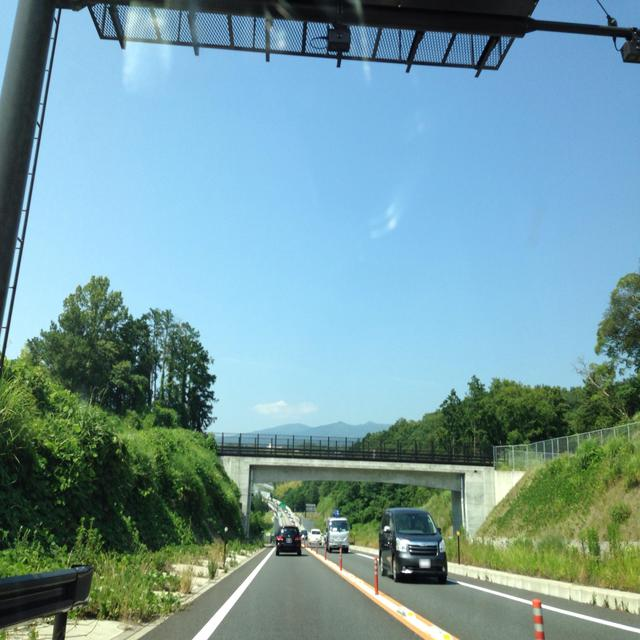Barrier: (286, 506, 455, 639)
Car: (378, 507, 447, 583), (275, 525, 322, 555)
Vegetation: (363, 258, 639, 444), (0, 615, 54, 639)
